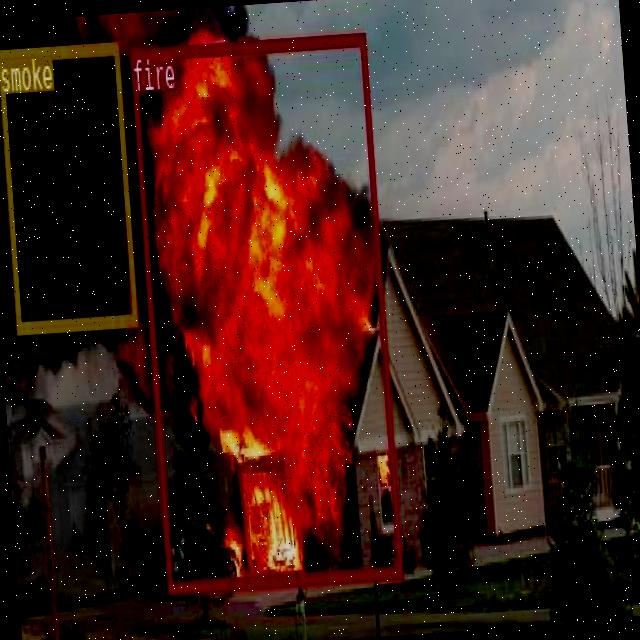fire: (128, 31, 402, 594)
smoke: (0, 39, 137, 332)
